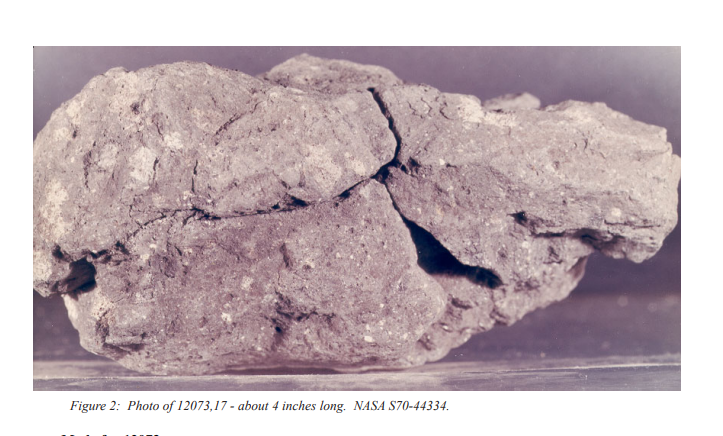Breccia: (32, 46, 682, 393)
